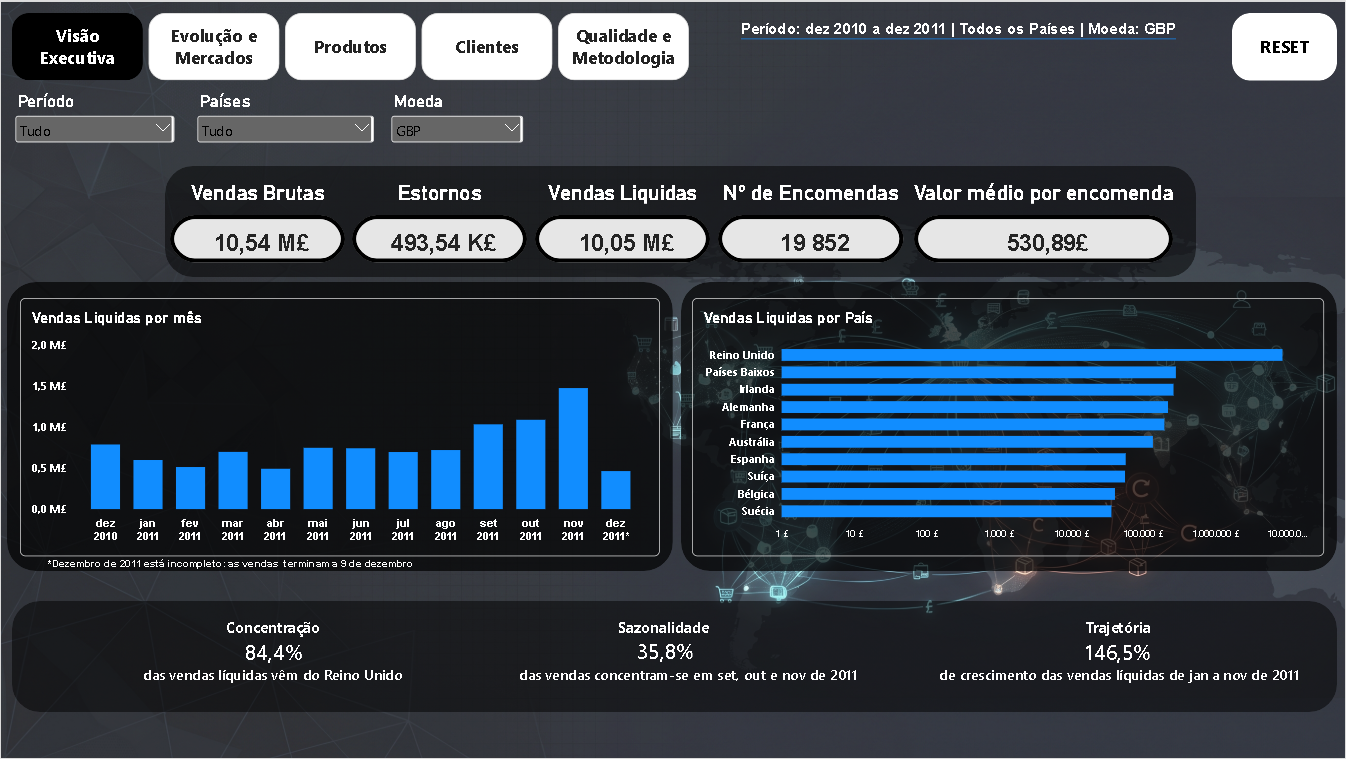

The dashboard page shown, as its layout file describes it:
{"tool":"powerbi","page":{"name":"Visão Executiva","canvas":[1920,1080],"ordinal":0},"visuals":[{"type":"shape","box":[8.6,400,951.4,412.9],"z":0},{"type":"textbox","box":[321.2,876.7,144.3,34.2],"z":0,"group":"g1"},{"type":"textbox","box":[857.2,876.7,165,35],"z":0,"group":"g2"},{"type":"textbox","box":[1460,877.2,263.3,35],"z":0,"group":"g3"},{"type":"shape","box":[234.3,234.3,1472.9,158.6],"z":1000},{"type":"cardVisual","fields":{"Data":["_Medidas.Valor Concentracao"]},"box":[331.7,893.6,115,66.5],"z":1000,"group":"g1"},{"type":"cardVisual","fields":{"Data":["_Medidas.Valor Trajetoria"]},"box":[1533.3,893.9,156.7,66.7],"z":1000,"group":"g3"},{"type":"cardVisual","fields":{"Data":["_Medidas.Valor Sazonalidade"]},"box":[887.4,894.7,135.3,66.3],"z":1000,"group":"g2"},{"type":"actionButton","box":[1758.6,15.7,150,96.7],"z":2000},{"type":"cardVisual","fields":{"Data":["_Medidas.Texto Sazonalidade"]},"box":[725,926.3,553.3,66.5],"z":2000,"group":"g2"},{"type":"cardVisual","fields":{"Data":["_Medidas.Texto Concentracao"]},"box":[186.7,926.8,565,66.5],"z":2000,"group":"g1"},{"type":"cardVisual","fields":{"Data":["_Medidas.Texto Trajetoria"]},"box":[1325,926.8,565,66.5],"z":2000,"group":"g3"},{"type":"pageNavigator","box":[15,15,971.7,96.7],"z":3000},{"type":"slicer","title":"Período","fields":{"Values":["dCalendario.MesAno"]},"box":[15,128.3,236.7,96.7],"z":4000},{"type":"slicer","title":"Período","fields":{"Values":["dPais.PaisPT"]},"box":[275,128.3,261.7,96.7],"z":5000},{"type":"slicer","title":"Período","fields":{"Values":["dMoeda.Moeda"]},"box":[553.3,128.3,198.3,96.7],"z":6000},{"type":"textbox","box":[1056.7,26.7,678.3,101.7],"z":7000},{"type":"cardVisual","title":"Vendas Brutas","fields":{"Data":["_Medidas.Vendas Brutas Texto"]},"box":[241.4,254.3,250,118.3],"z":8000},{"type":"cardVisual","title":"Vendas Liquidas","fields":{"Data":["_Medidas.Vendas Liquidas Texto"]},"box":[762.9,254.3,250,118.3],"z":9000},{"type":"cardVisual","title":"Estornos","fields":{"Data":["_Medidas.Estornos Texto"]},"box":[501.4,254.3,250,118.3],"z":10000},{"type":"cardVisual","title":"Nº de Encomendas","fields":{"Data":["_Medidas.Encomendas Texto"]},"box":[1024.3,254.3,265,118.3],"z":11000},{"type":"cardVisual","title":"Valor médio por encomenda","fields":{"Data":["_Medidas.Valor Medio por encomendas"]},"box":[1304.3,254.3,370,118.6],"z":12000},{"type":"columnChart","title":"Vendas Liquidas por mês","fields":{"Category":["dCalendario.RotuloMes"],"Y":["_Medidas.Vendas Liquidas"]},"box":[27.1,422.9,914.3,368.6],"z":13000},{"type":"shape","box":[971.4,400,937.1,412.9],"z":14000},{"type":"textbox","box":[51.4,791.4,551.4,21.4],"z":15000},{"type":"shape","box":[15.7,855.7,1892.9,158.6],"z":16000},{"type":"barChart","title":"Vendas Liquidas por País","fields":{"Category":["dPais.PaisPT"],"Y":["_Medidas.Vendas Liquidas"]},"box":[987.1,422.9,902.9,368.6],"z":17000},{"type":"group","id":"g1","title":"Grupo 1","box":[186.7,876.7,565,116.7],"z":18000},{"type":"group","id":"g2","title":"Grupo 1","box":[725,876.7,553.3,116.1],"z":19000},{"type":"group","id":"g3","title":"Grupo 1","box":[1325,877.2,565,116.1],"z":20000},{"type":"textbox","box":[420.8,990.4,1152.8,31.1],"z":21000}]}

Visuals, with their boxes in screenshot pixels (x1, y1, x2, y2), scaled from the page's 1920x1080 canvas onto the 1346x759 screenshot:
shape: <region>6, 281, 673, 571</region>
textbox: <region>225, 616, 326, 640</region>
textbox: <region>601, 616, 717, 641</region>
textbox: <region>1024, 616, 1208, 641</region>
shape: <region>164, 165, 1197, 276</region>
cardVisual - _Medidas.Valor Concentracao: <region>233, 628, 313, 675</region>
cardVisual - _Medidas.Valor Trajetoria: <region>1075, 628, 1185, 675</region>
cardVisual - _Medidas.Valor Sazonalidade: <region>622, 629, 717, 675</region>
actionButton: <region>1233, 11, 1338, 79</region>
cardVisual - _Medidas.Texto Sazonalidade: <region>508, 651, 896, 698</region>
cardVisual - _Medidas.Texto Concentracao: <region>131, 651, 527, 698</region>
cardVisual - _Medidas.Texto Trajetoria: <region>929, 651, 1325, 698</region>
pageNavigator: <region>11, 11, 692, 79</region>
"Período" slicer: <region>11, 90, 176, 158</region>
"Período" slicer: <region>193, 90, 376, 158</region>
"Período" slicer: <region>388, 90, 527, 158</region>
textbox: <region>741, 19, 1216, 90</region>
"Vendas Brutas" cardVisual: <region>169, 179, 344, 262</region>
"Vendas Liquidas" cardVisual: <region>535, 179, 710, 262</region>
"Estornos" cardVisual: <region>352, 179, 527, 262</region>
"Nº de Encomendas" cardVisual: <region>718, 179, 904, 262</region>
"Valor médio por encomenda" cardVisual: <region>914, 179, 1174, 262</region>
"Vendas Liquidas por mês" columnChart: <region>19, 297, 660, 556</region>
shape: <region>681, 281, 1338, 571</region>
textbox: <region>36, 556, 423, 571</region>
shape: <region>11, 601, 1338, 713</region>
"Vendas Liquidas por País" barChart: <region>692, 297, 1325, 556</region>
"Grupo 1" group: <region>131, 616, 527, 698</region>
"Grupo 1" group: <region>508, 616, 896, 698</region>
"Grupo 1" group: <region>929, 616, 1325, 698</region>
textbox: <region>295, 696, 1103, 718</region>
